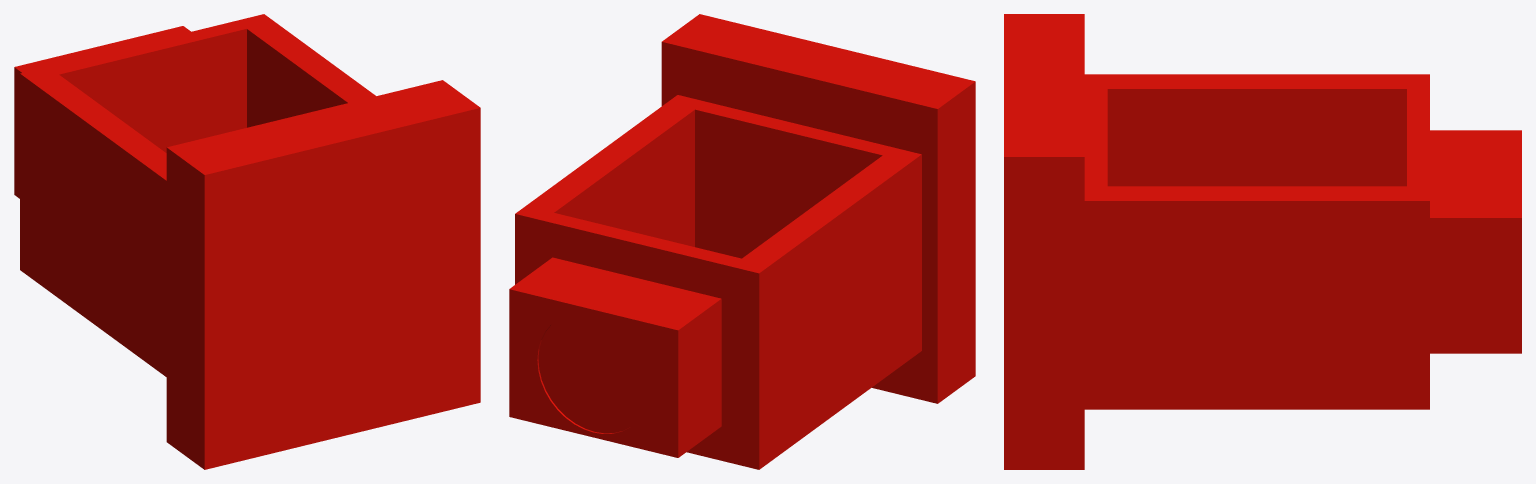
The model's file is slide_link.dae.
The picture shows the model from 3 angles, left to right: view 1: azimuth 30°, elevation 25°; view 2: azimuth 150°, elevation 25°; view 3: azimuth 270°, elevation 25°; orthographic projection. The views are drawn at different scales.
Parts seen in each view (by area): view 1: slide link MKgS; view 2: slide link MKgS; view 3: slide link MKgS.
Part boxes in pixels (left/top/right/bottom): slide link MKgS: left=14, top=14, right=480, bottom=469; slide link MKgS: left=509, top=14, right=975, bottom=469; slide link MKgS: left=1004, top=14, right=1521, bottom=469.
Size of the model in its own units: 0.147 by 0.225 by 0.15.
